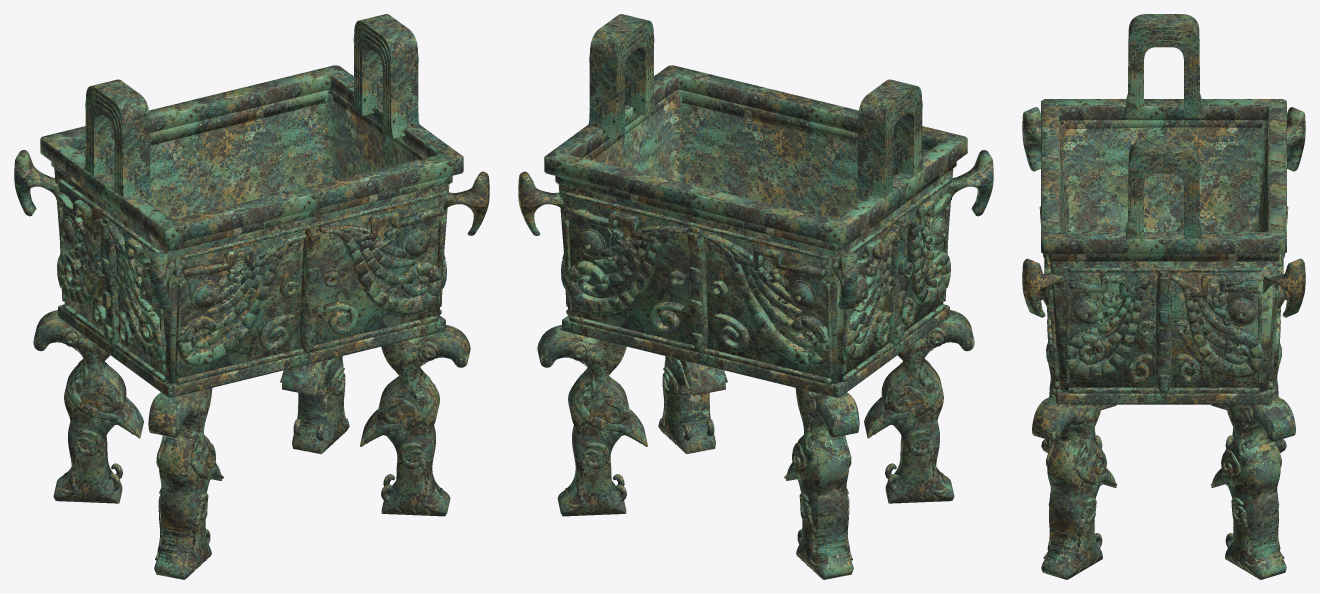
The model's file is ding-model.glb.
3 renders of one model, left to right at view 1: azimuth 30°, elevation 25°; view 2: azimuth 150°, elevation 25°; view 3: azimuth 270°, elevation 25°, orthographic. The views are drawn at different scales.
Visible parts, largest first — view 1: 敞口器身（厚壁、实底） / Hollow vessel, 厚实外挑口沿 / Heavy projecting lip, Bird_Front_Left_Core, Bird_Front_Right_Core, Bird_Rear_Left_Core, 右竖向 U 耳 / Right handle, 左竖向 U 耳 / Left handle, 口沿下束颈 / Neck collar, 器底边框 / Basal frame, Relief_Front_Left_Outer_Tail_Plume, Relief_Front_Right_Outer_Tail_Plume, Bird_Rear_Right_Core (+26 smaller); view 2: 敞口器身（厚壁、实底） / Hollow vessel, 厚实外挑口沿 / Heavy projecting lip, Bird_Rear_Left_Core, Bird_Rear_Right_Core, Bird_Front_Left_Core, 右竖向 U 耳 / Right handle, 左竖向 U 耳 / Left handle, 口沿下束颈 / Neck collar, 器底边框 / Basal frame, Relief_Back_Left_Outer_Tail_Plume, Relief_Back_Right_Outer_Tail_Plume, Bird_Front_Right_Core (+26 smaller); view 3: 敞口器身（厚壁、实底） / Hollow vessel, 厚实外挑口沿 / Heavy projecting lip, Bird_Rear_Right_Core, Bird_Front_Right_Core, 左竖向 U 耳 / Left handle, 右竖向 U 耳 / Right handle, 口沿下束颈 / Neck collar, Relief_Right_Left_Outer_Tail_Plume, Relief_Right_Right_Outer_Tail_Plume, 器底边框 / Basal frame, Relief_Right_Central_Cast_Blade, 角部圆铸鸟喙_1_1 / Curved corner bird beak (+19 smaller).
Part boxes in pixels (bbox=[...]): 敞口器身（厚壁、实底） / Hollow vessel: bbox=[54, 94, 449, 383]; 厚实外挑口沿 / Heavy projecting lip: bbox=[40, 65, 463, 244]; Bird_Front_Left_Core: bbox=[148, 388, 212, 579]; Bird_Front_Right_Core: bbox=[377, 325, 470, 516]; Bird_Rear_Left_Core: bbox=[33, 310, 126, 503]; 右竖向 U 耳 / Right handle: bbox=[352, 14, 419, 138]; 左竖向 U 耳 / Left handle: bbox=[84, 79, 151, 199]; 口沿下束颈 / Neck collar: bbox=[51, 90, 452, 251]; 器底边框 / Basal frame: bbox=[58, 304, 445, 397]; Relief_Front_Left_Outer_Tail_Plume: bbox=[175, 231, 306, 366]; Relief_Front_Right_Outer_Tail_Plume: bbox=[318, 225, 441, 315]; Bird_Rear_Right_Core: bbox=[292, 356, 349, 454]; 敞口器身（厚壁、实底） / Hollow vessel: bbox=[558, 94, 953, 383]; 厚实外挑口沿 / Heavy projecting lip: bbox=[544, 65, 967, 244]; Bird_Rear_Left_Core: bbox=[795, 388, 859, 579]; Bird_Rear_Right_Core: bbox=[537, 325, 630, 516]; Bird_Front_Left_Core: bbox=[881, 310, 974, 503]; 右竖向 U 耳 / Right handle: bbox=[588, 14, 655, 138]; 左竖向 U 耳 / Left handle: bbox=[856, 79, 923, 199]; 口沿下束颈 / Neck collar: bbox=[555, 90, 956, 251]; 器底边框 / Basal frame: bbox=[562, 304, 949, 397]; Relief_Back_Left_Outer_Tail_Plume: bbox=[701, 231, 832, 366]; Relief_Back_Right_Outer_Tail_Plume: bbox=[566, 225, 689, 315]; Bird_Front_Right_Core: bbox=[658, 356, 715, 453]; 敞口器身（厚壁、实底） / Hollow vessel: bbox=[1050, 124, 1277, 391]; 厚实外挑口沿 / Heavy projecting lip: bbox=[1041, 99, 1286, 254]; Bird_Rear_Right_Core: bbox=[1225, 397, 1295, 579]; Bird_Front_Right_Core: bbox=[1032, 397, 1102, 579]; 左竖向 U 耳 / Left handle: bbox=[1124, 14, 1203, 118]; 右竖向 U 耳 / Right handle: bbox=[1124, 140, 1203, 238]; 口沿下束颈 / Neck collar: bbox=[1048, 120, 1279, 261]; Relief_Right_Left_Outer_Tail_Plume: bbox=[1064, 273, 1157, 377]; Relief_Right_Right_Outer_Tail_Plume: bbox=[1170, 273, 1263, 377]; 器底边框 / Basal frame: bbox=[1056, 388, 1271, 404]; Relief_Right_Central_Cast_Blade: bbox=[1155, 271, 1172, 392]; 角部圆铸鸟喙_1_1 / Curved corner bird beak: bbox=[1262, 258, 1305, 317].
Bounding box in the file's own units: 0.4 × 0.5 × 0.3.
4 materials, 4 textured.
